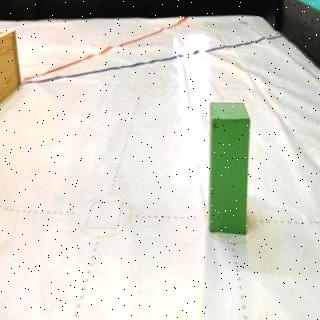greenbox: (208, 100, 252, 233)
